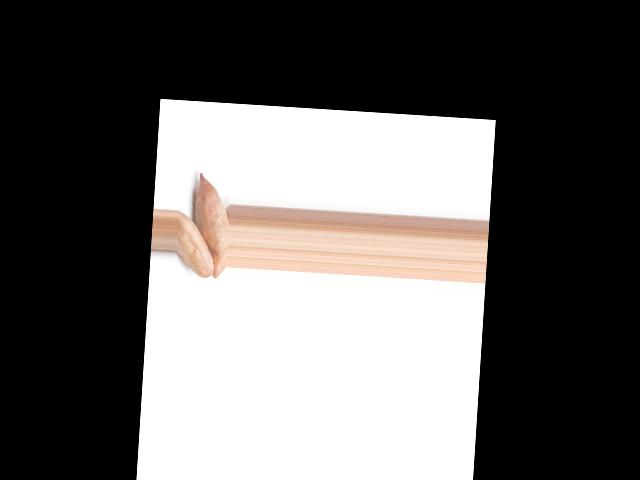sweet_potato: (174, 206, 216, 278)
